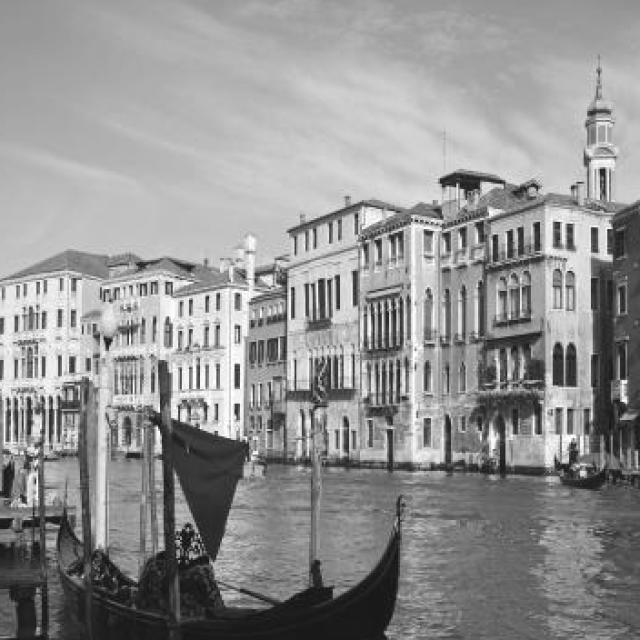ship: (54, 492, 401, 640), (553, 454, 609, 490)
